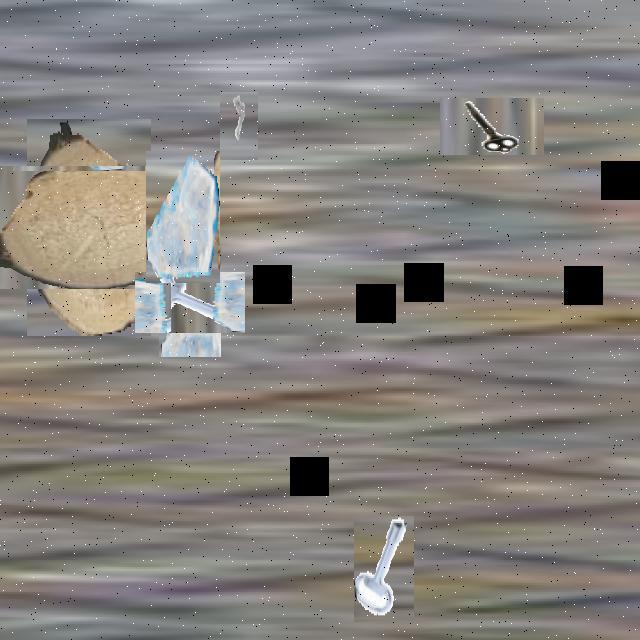glass: (146, 151, 220, 283)
metal: (147, 259, 233, 345), (452, 86, 532, 166), (354, 516, 414, 622), (220, 92, 258, 160)
wood: (4, 142, 174, 313)
